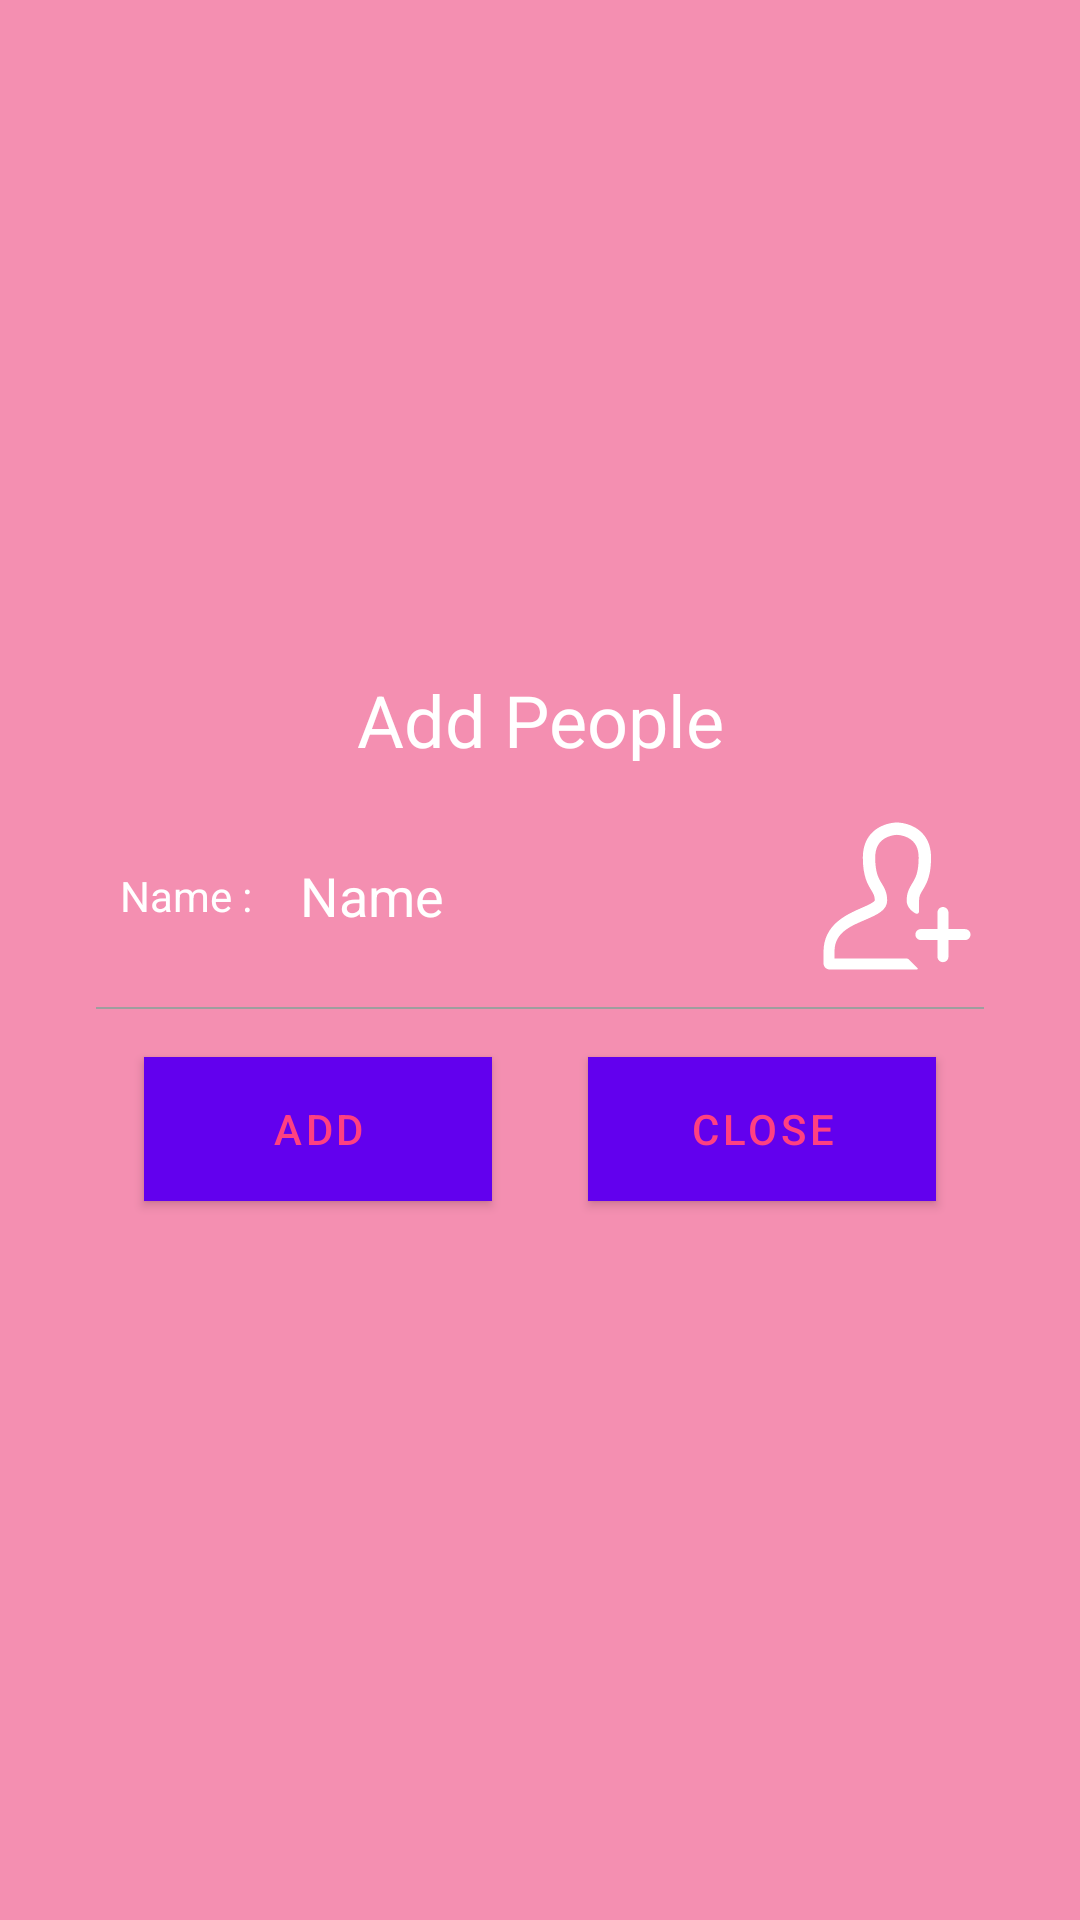

Icon bounding boxes for this 1080 x 1920 phone screenshot, format (x1, y1, x2, y2):
add ppl: (823, 822, 971, 970)
